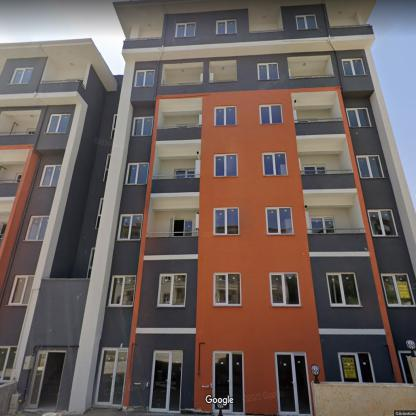door: (27, 350, 66, 410), (275, 352, 312, 415), (150, 351, 182, 412), (213, 352, 244, 414), (95, 348, 128, 406), (339, 353, 375, 381), (310, 217, 335, 232), (303, 165, 327, 174), (174, 168, 194, 178), (170, 216, 175, 236)
window: (327, 273, 360, 305), (382, 274, 415, 306), (270, 272, 300, 306), (158, 274, 186, 306), (213, 273, 240, 305), (109, 276, 136, 306), (8, 276, 34, 306), (368, 210, 398, 236), (266, 207, 293, 234), (214, 208, 239, 234), (357, 156, 384, 178), (0, 346, 16, 382), (118, 215, 142, 239), (25, 216, 48, 241), (262, 153, 288, 175), (214, 154, 237, 176), (126, 163, 148, 184), (347, 108, 372, 126), (46, 114, 70, 132), (260, 105, 282, 124), (40, 166, 60, 186), (215, 106, 236, 125), (342, 59, 365, 76), (258, 62, 278, 80), (10, 68, 33, 83), (134, 70, 154, 86), (132, 118, 152, 134), (296, 15, 317, 29), (217, 20, 236, 34), (176, 23, 195, 36), (184, 218, 192, 235)
